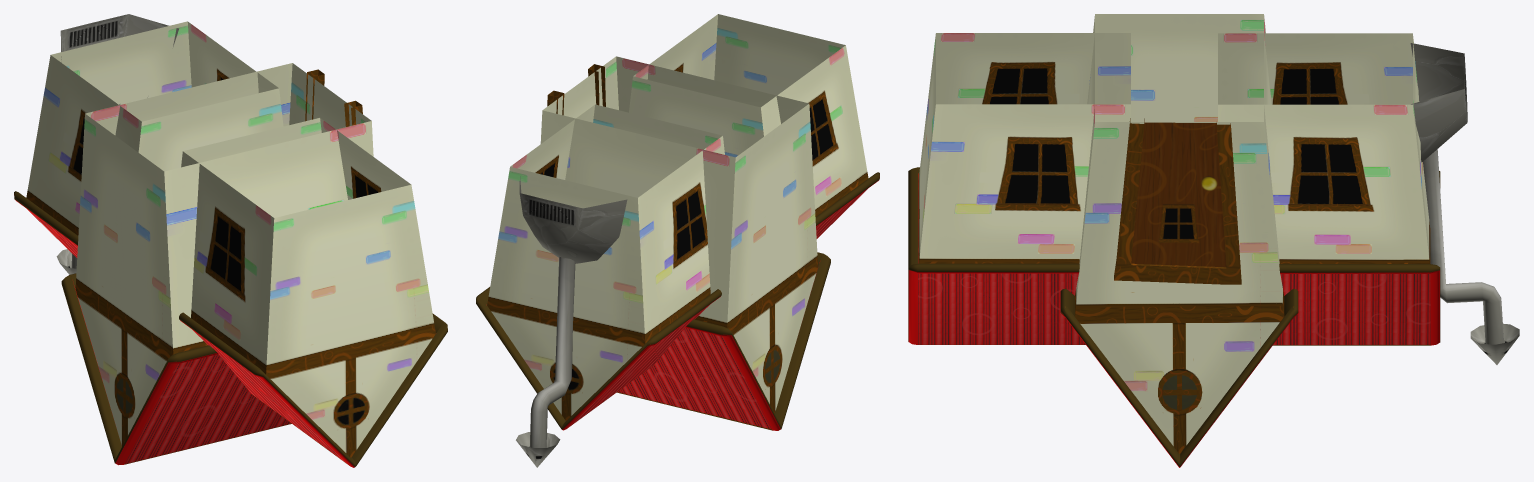
Rendered from animal_house_cute_monsters.fbx.
3 views of the same model, side by side, from view 1: azimuth 30°, elevation 25°; view 2: azimuth 150°, elevation 25°; view 3: azimuth 270°, elevation 25° (orthographic). The views are drawn at different scales.
Visible parts, largest first — view 1: main, main_2, main_1, openhaard_buis, deur_post; view 2: main, main_1, main_2, openhaard_buis, deur_post; view 3: main_2, main_1, main, deur, openhaard_buis, deur_post.
Boxes of the visible parts, x1,y1,x2,y2 form: main: [61, 63, 373, 465]; main_2: [179, 118, 447, 467]; main_1: [14, 21, 283, 257]; openhaard_buis: [56, 14, 178, 274]; deur_post: [305, 69, 362, 126]; main: [540, 56, 830, 430]; main_1: [476, 104, 724, 430]; main_2: [629, 14, 879, 238]; openhaard_buis: [516, 176, 627, 467]; deur_post: [547, 64, 605, 115]; main_2: [908, 33, 1130, 344]; main_1: [1218, 33, 1440, 345]; main: [1060, 14, 1298, 467]; deur: [1131, 122, 1226, 267]; openhaard_buis: [1410, 43, 1519, 364]; deur_post: [1114, 118, 1241, 284].
Bounding box in the file's own units: 3081 × 4205 × 6724.
Materials: 4 (4 with a texture image).
